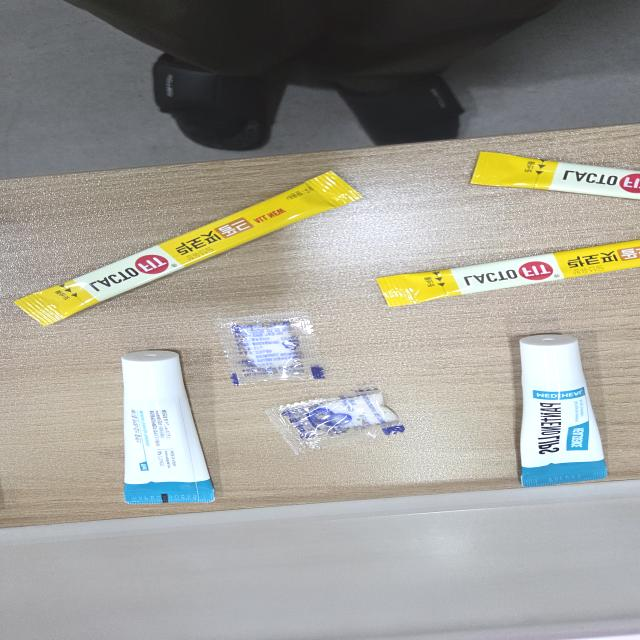lacto: (9, 165, 373, 328), (376, 238, 640, 308), (467, 150, 640, 201)
lib: (117, 349, 219, 508), (517, 328, 609, 488)
salt: (264, 384, 406, 460), (220, 306, 332, 392)
